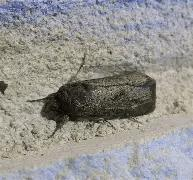army worm adult: (28, 55, 157, 136)
